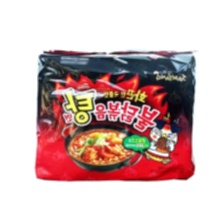snack: (25, 40, 208, 187)
